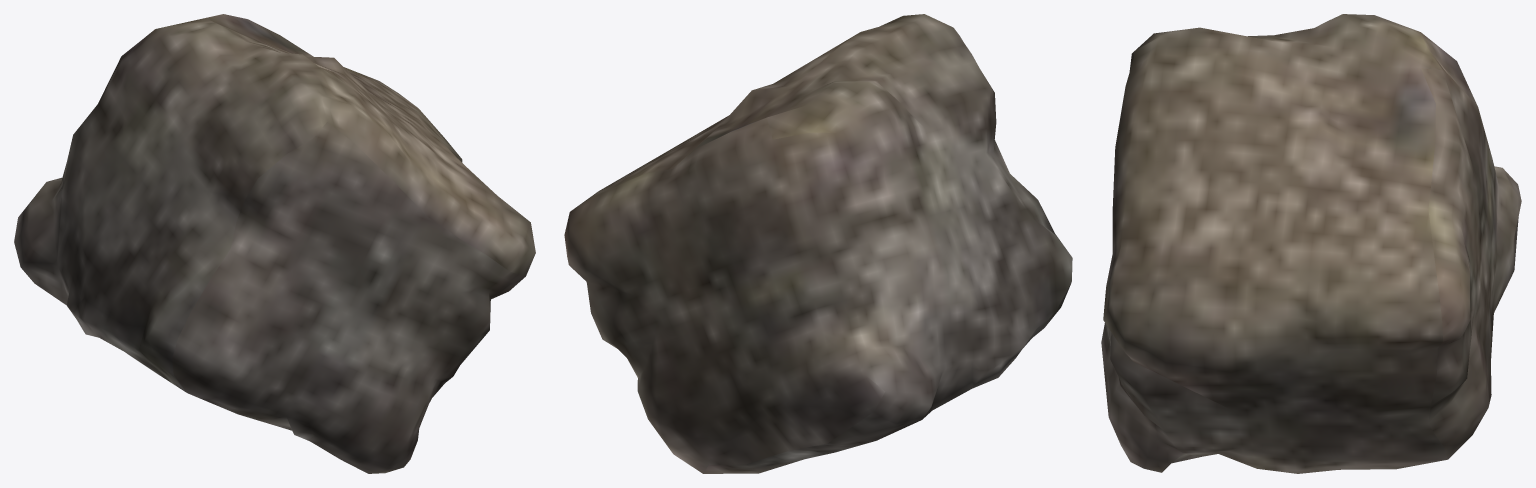
The model's file is Ruins_Coll_Bb-transformed.glb.
3 renders of one model, left to right at view 1: azimuth 30°, elevation 25°; view 2: azimuth 150°, elevation 25°; view 3: azimuth 270°, elevation 25°, orthographic. The views are drawn at different scales.
Parts seen in each view (by area): view 1: default; view 2: default; view 3: default.
Part boxes in pixels (x1,y1,x2,y2): default: (14, 14, 535, 473); default: (564, 14, 1072, 473); default: (1101, 14, 1521, 473).
Bounding box in the file's own units: 1.06 × 1.01 × 0.9472.
Materials: 1 (1 with a texture image).
